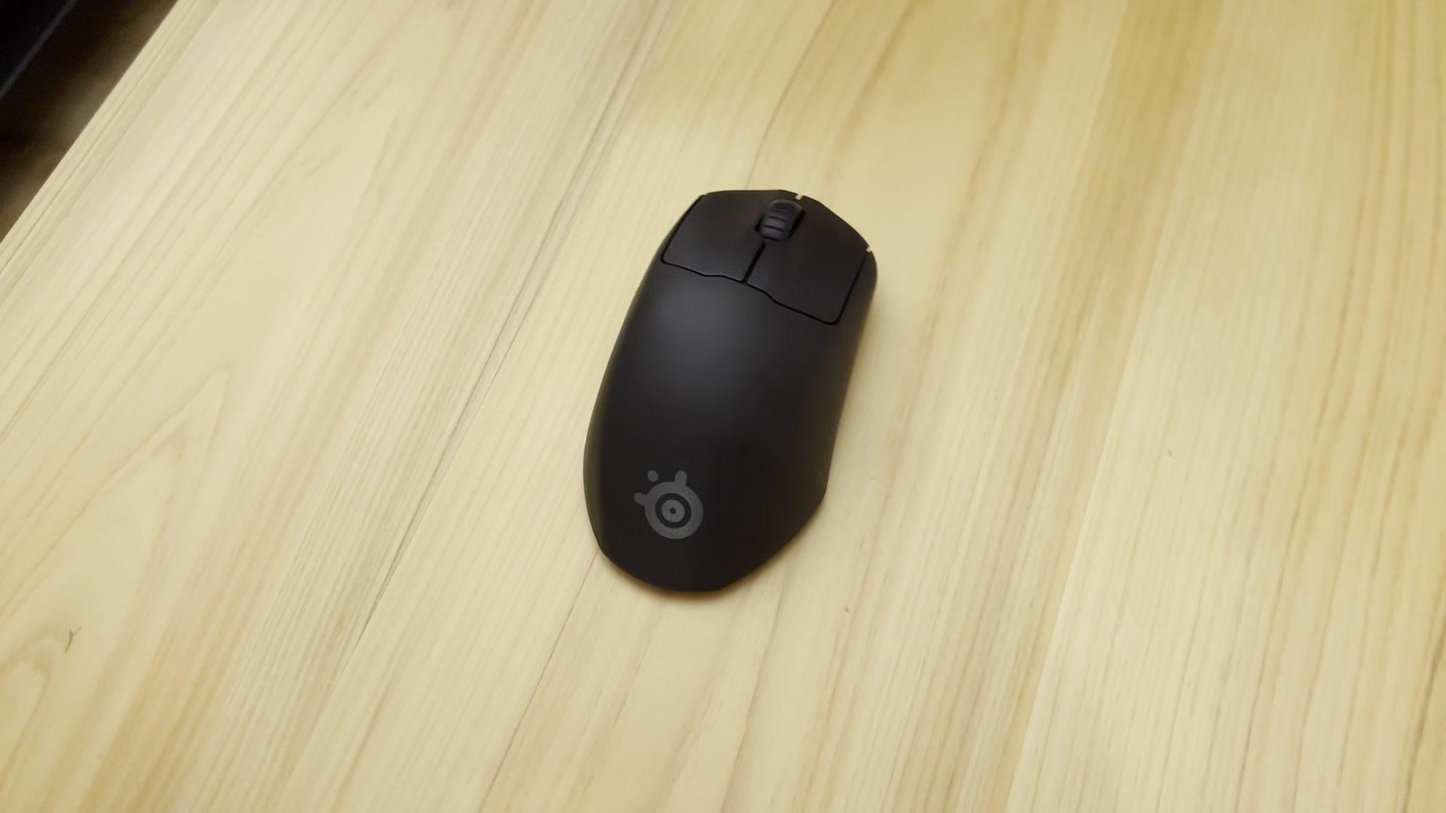steel-series: (574, 176, 887, 606)
